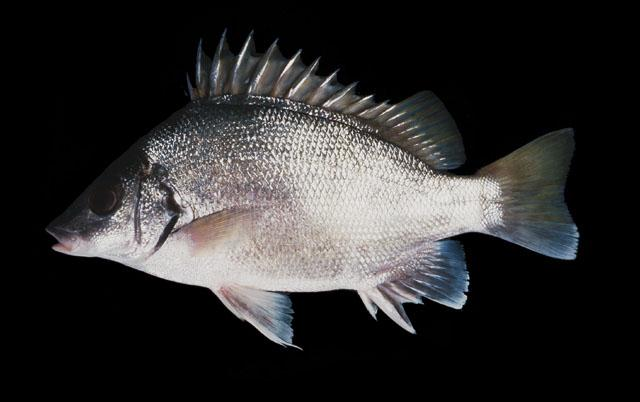Silver Perch: (50, 29, 582, 352)
